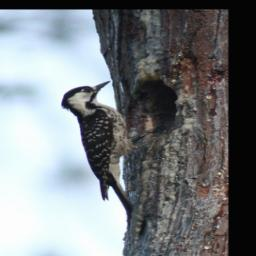Woodpecker: (59, 78, 163, 216)
